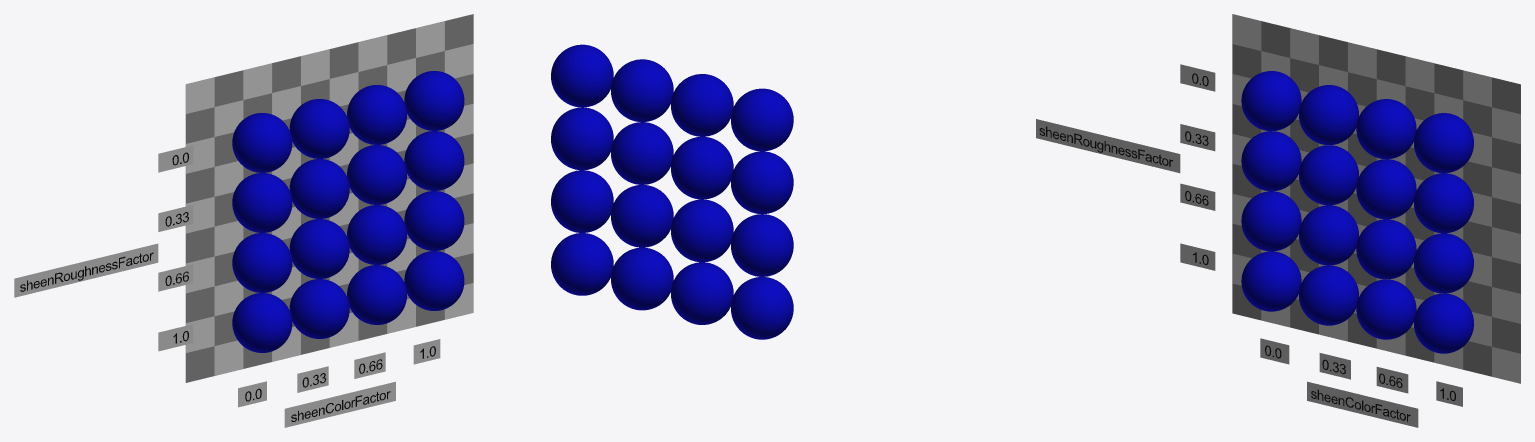
File: SheenTestGrid.glb
The picture shows the model from 3 angles, left to right: view 1: azimuth 30°, elevation 25°; view 2: azimuth 150°, elevation 25°; view 3: azimuth 330°, elevation 25°; orthographic projection. The views are drawn at different scales.
Visible parts, largest first — view 1: CheckerBackdrop, TextBackdrop, sheenColor0.66_sheenRough0 (×2), sheenColor0_sheenRough0.66, sheenColor0_sheenRough1, sheenColor0_sheenRough0.33, sheenColor0_sheenRough0, sheenColor1_sheenRough0.33, sheenColor1_sheenRough0.66, sheenColor1_sheenRough1, sheenColor1_sheenRough0, sheenColor0.33_sheenRough0 (+7 smaller); view 2: sheenColor0.66_sheenRough0 (×2), sheenColor0_sheenRough0.33, sheenColor0_sheenRough0, sheenColor0_sheenRough1, sheenColor0_sheenRough0.66, sheenColor1_sheenRough0.33, sheenColor0.33_sheenRough0.66, sheenColor1_sheenRough0, sheenColor0.33_sheenRough0.33, sheenColor0.66_sheenRough1, sheenColor1_sheenRough0.66, sheenColor0.66_sheenRough0.66 (+3 smaller); view 3: CheckerBackdrop, TextBackdrop, sheenColor0.66_sheenRough0 (×2), sheenColor1_sheenRough0.66, sheenColor1_sheenRough0.33, sheenColor1_sheenRough1, sheenColor1_sheenRough0, sheenColor0_sheenRough0.33, sheenColor0_sheenRough0.66, sheenColor0.33_sheenRough1, sheenColor0.66_sheenRough1, sheenColor0_sheenRough0 (+7 smaller).
Part boxes in pixels (left/top/right/bottom): CheckerBackdrop: left=185, top=14, right=473, bottom=382; TextBackdrop: left=14, top=145, right=440, bottom=427; sheenColor0.66_sheenRough0 (×2): left=347, top=85, right=406, bottom=204; sheenColor0_sheenRough0.66: left=232, top=233, right=292, bottom=292; sheenColor0_sheenRough1: left=232, top=293, right=292, bottom=352; sheenColor0_sheenRough0.33: left=232, top=173, right=292, bottom=232; sheenColor0_sheenRough0: left=232, top=113, right=292, bottom=172; sheenColor1_sheenRough0.33: left=404, top=131, right=464, bottom=190; sheenColor1_sheenRough0.66: left=404, top=191, right=464, bottom=250; sheenColor1_sheenRough1: left=404, top=251, right=464, bottom=310; sheenColor1_sheenRough0: left=404, top=71, right=464, bottom=130; sheenColor0.33_sheenRough0: left=289, top=99, right=349, bottom=158; sheenColor0.66_sheenRough0 (×2): left=611, top=59, right=673, bottom=184; sheenColor0_sheenRough0.33: left=731, top=151, right=793, bottom=214; sheenColor0_sheenRough0: left=731, top=88, right=793, bottom=151; sheenColor0_sheenRough1: left=731, top=277, right=793, bottom=339; sheenColor0_sheenRough0.66: left=731, top=214, right=793, bottom=276; sheenColor1_sheenRough0.33: left=551, top=107, right=613, bottom=170; sheenColor0.33_sheenRough0.66: left=671, top=199, right=733, bottom=262; sheenColor1_sheenRough0: left=551, top=44, right=613, bottom=107; sheenColor0.33_sheenRough0.33: left=671, top=136, right=733, bottom=199; sheenColor0.66_sheenRough1: left=611, top=247, right=673, bottom=310; sheenColor1_sheenRough0.66: left=551, top=170, right=613, bottom=232; sheenColor0.66_sheenRough0.66: left=611, top=185, right=673, bottom=247; CheckerBackdrop: left=1232, top=14, right=1520, bottom=383; TextBackdrop: left=1036, top=64, right=1462, bottom=427; sheenColor0.66_sheenRough0 (×2): left=1356, top=99, right=1416, bottom=219; sheenColor1_sheenRough0.66: left=1414, top=233, right=1473, bottom=293; sheenColor1_sheenRough0.33: left=1414, top=173, right=1473, bottom=233; sheenColor1_sheenRough1: left=1414, top=293, right=1473, bottom=353; sheenColor1_sheenRough0: left=1414, top=113, right=1473, bottom=173; sheenColor0_sheenRough0.33: left=1241, top=131, right=1301, bottom=191; sheenColor0_sheenRough0.66: left=1241, top=191, right=1301, bottom=251; sheenColor0.33_sheenRough1: left=1299, top=265, right=1358, bottom=325; sheenColor0.66_sheenRough1: left=1356, top=279, right=1416, bottom=339; sheenColor0_sheenRough0: left=1241, top=71, right=1301, bottom=130.
Size of the model in its own units: 0.9042 by 0.6521 by 0.1125.
Materials: 19 (1 with a texture image).
